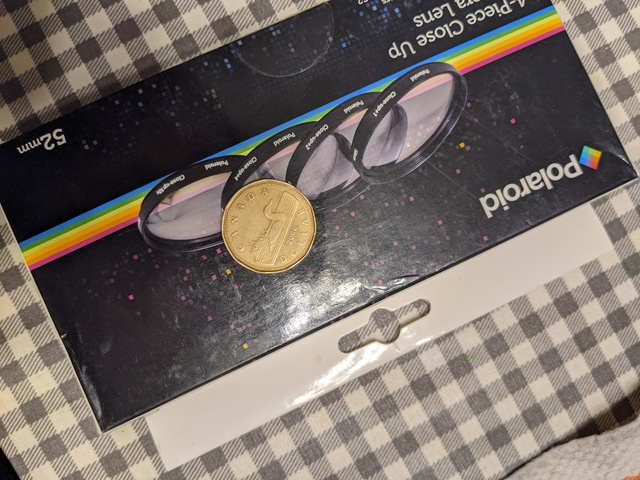loonie: (203, 166, 322, 274)
